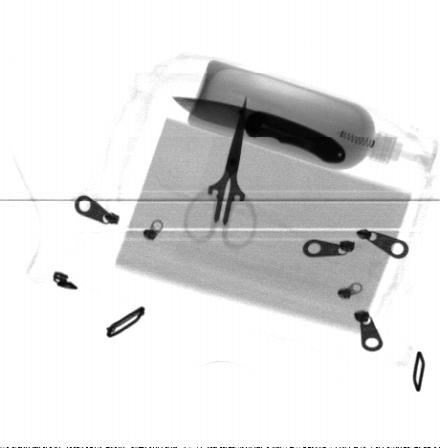Knife: (171, 96, 348, 164)
Scissors: (182, 95, 258, 250)
